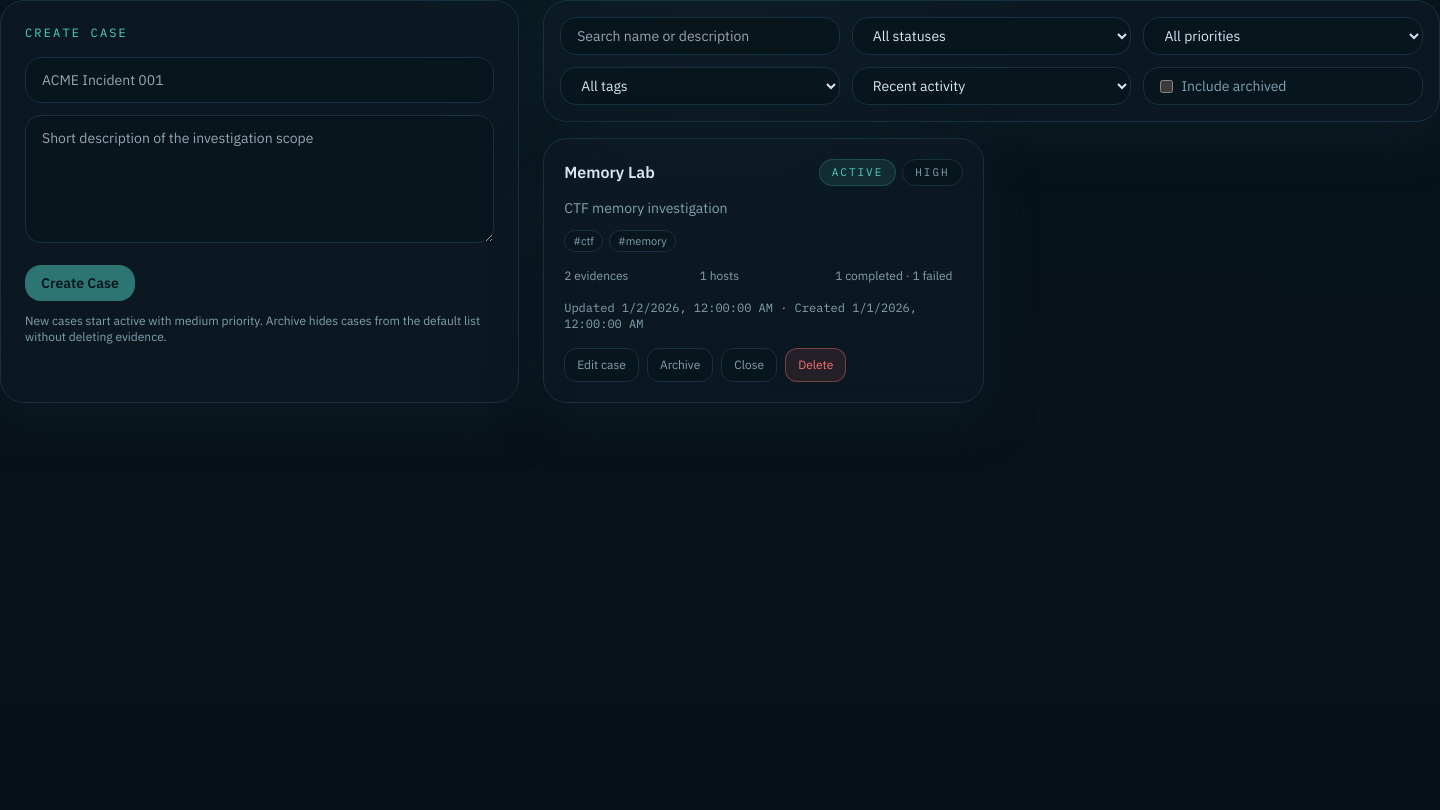
Cases page › Delete Case › deletes the case, shows a toast, and removes the card without a refresh
Check: the heading "Memory Lab" is shown, box [564, 160, 655, 184]
Click the button "Delete".
click(816, 365)  # box [785, 348, 846, 382]
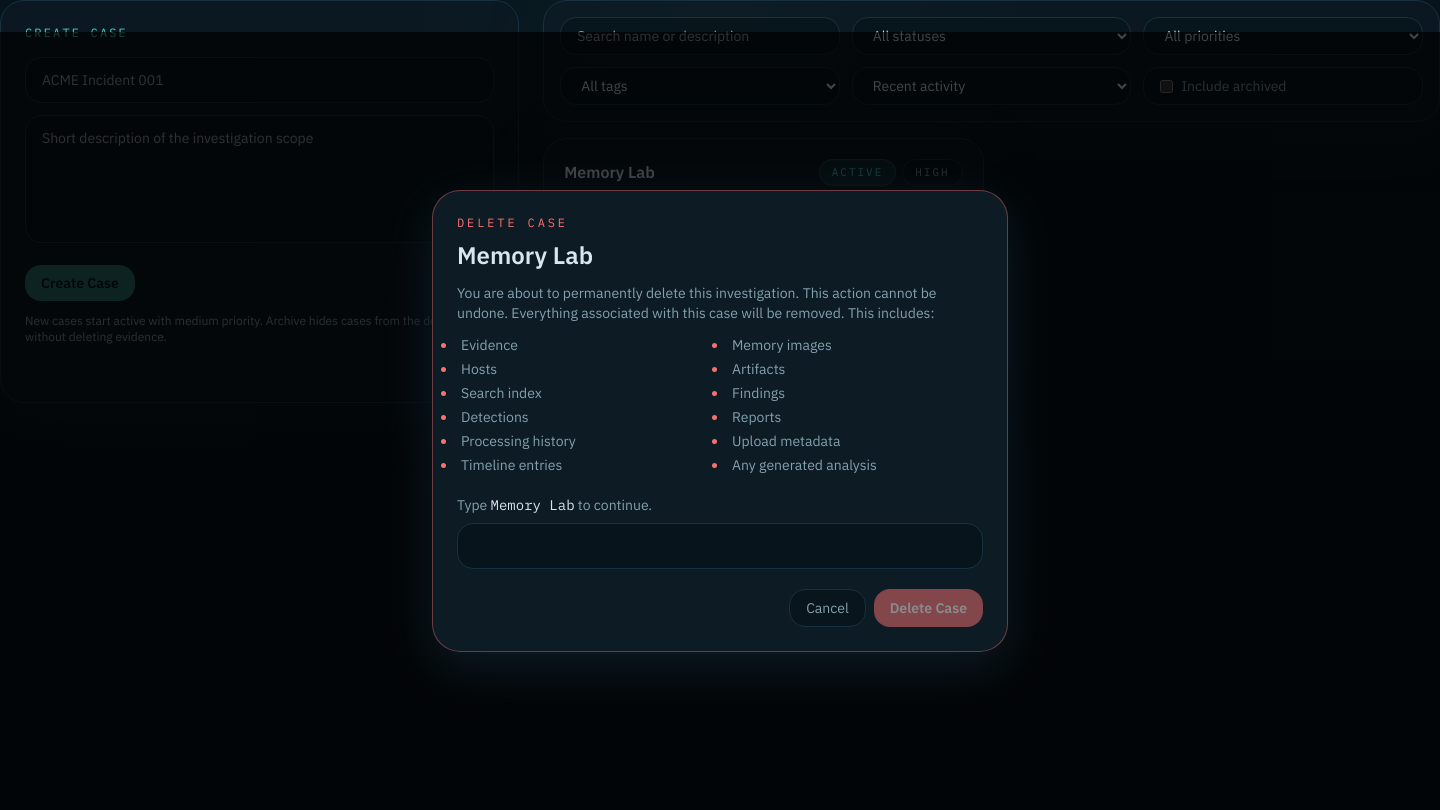
Type "Memory Lab" into the field.
click(720, 546); type("Memory Lab")  # box [457, 523, 983, 569]
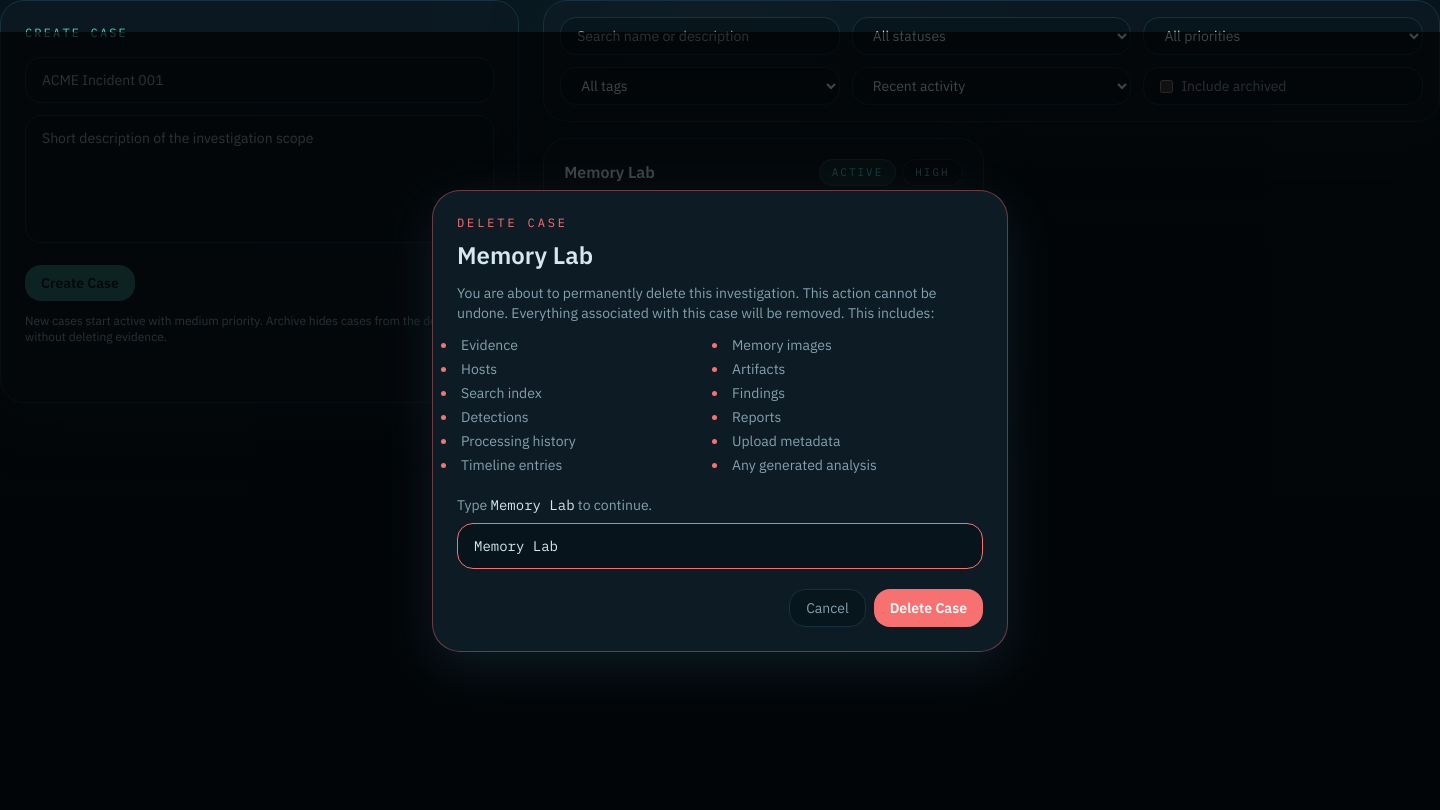
Click the button "Delete Case".
click(928, 608)  # box [874, 589, 983, 627]
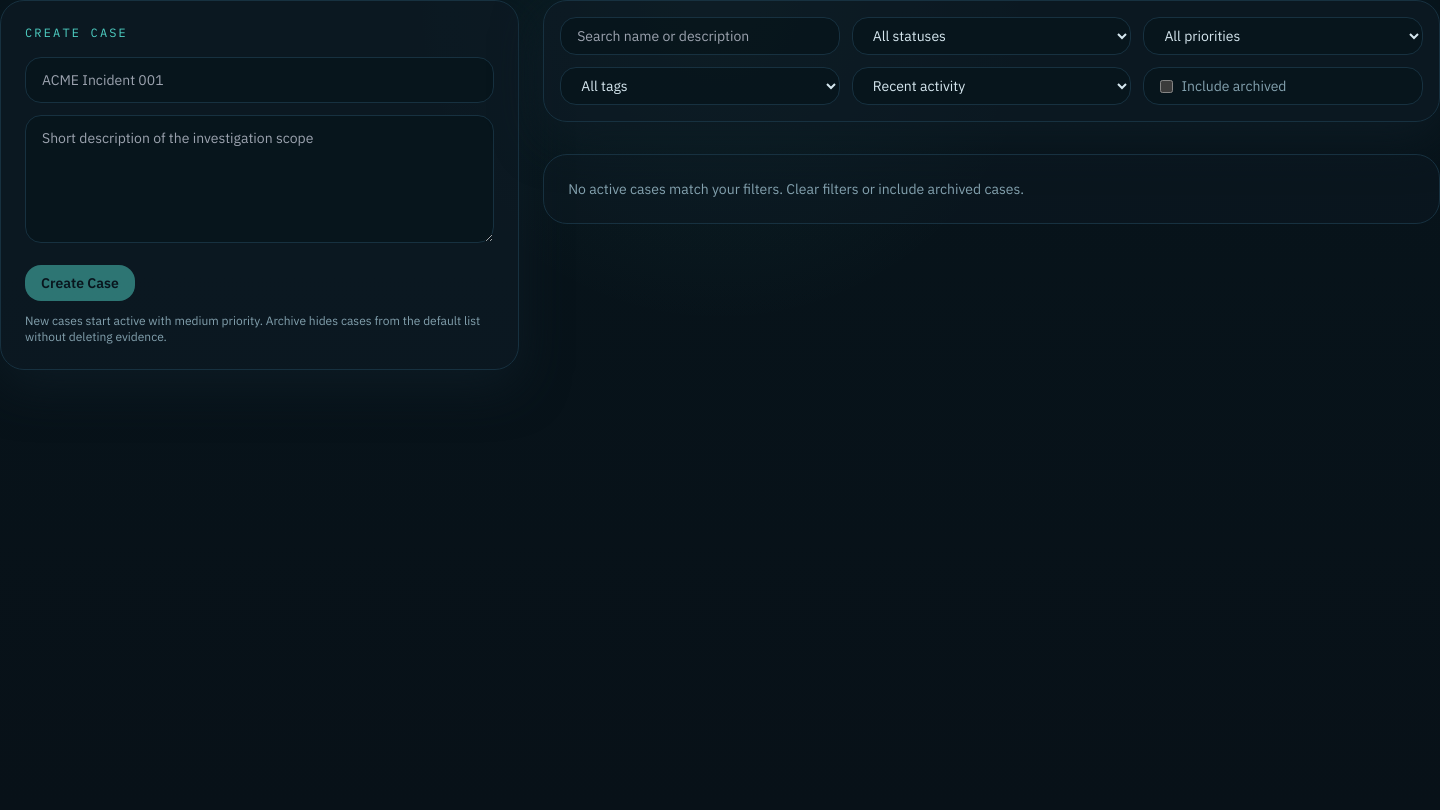
Check: the link "Memory Lab" is gone
